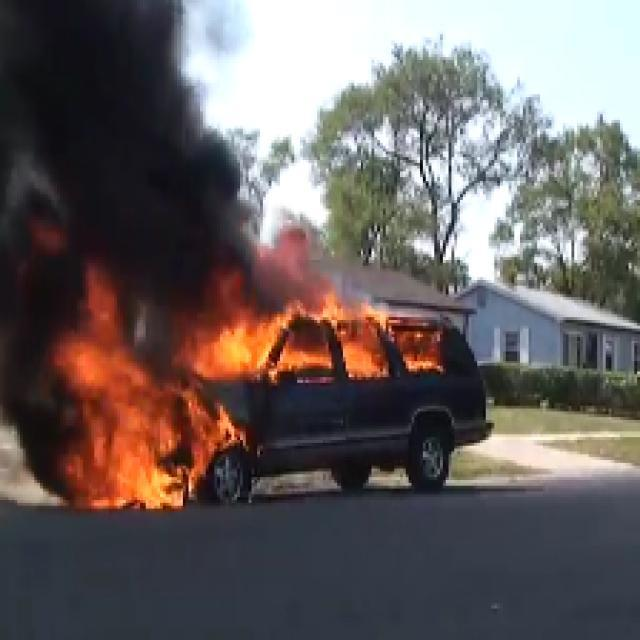Fire: (68, 337, 218, 497)
Smoke: (7, 19, 222, 267), (220, 304, 433, 400)
